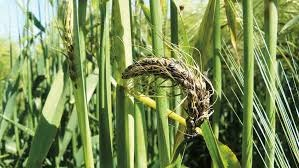Wheat Loose Smut: (117, 52, 218, 131)
